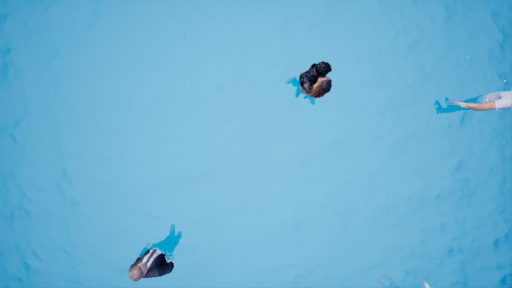person: (129, 218, 185, 288), (279, 55, 338, 113), (431, 84, 512, 118)
